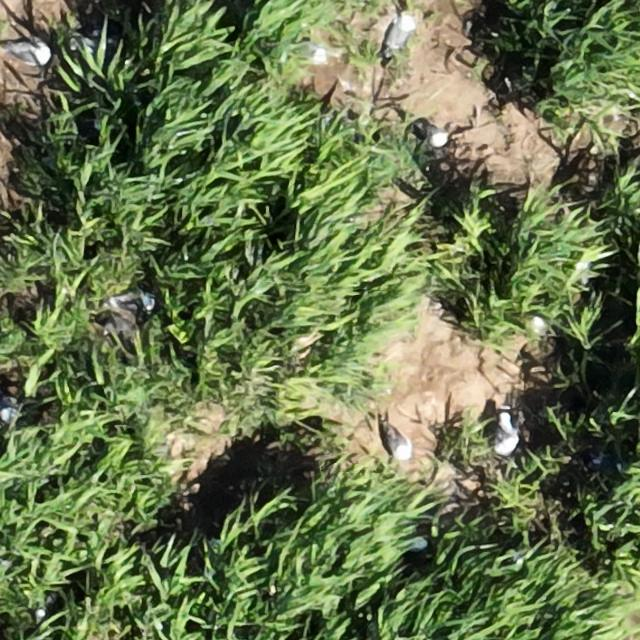umineko: (386, 15, 416, 52), (496, 417, 519, 455), (9, 42, 47, 65), (387, 429, 413, 460), (420, 122, 449, 146)
